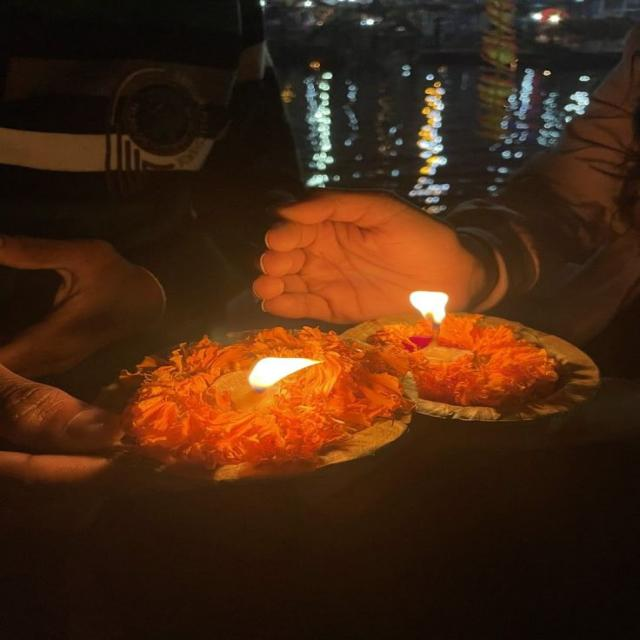fire: (248, 358, 324, 393), (409, 291, 448, 324)
